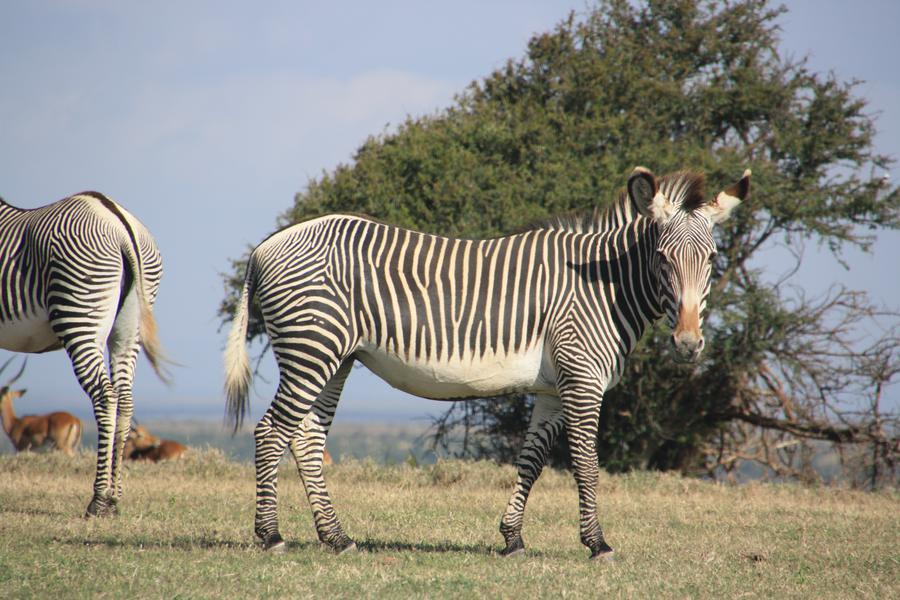zebra_grevys: (256, 212, 613, 385)
